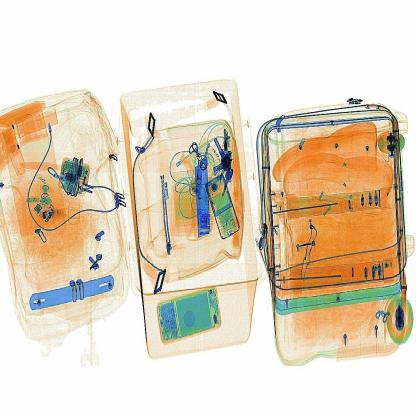scissors: (182, 154, 219, 252)
